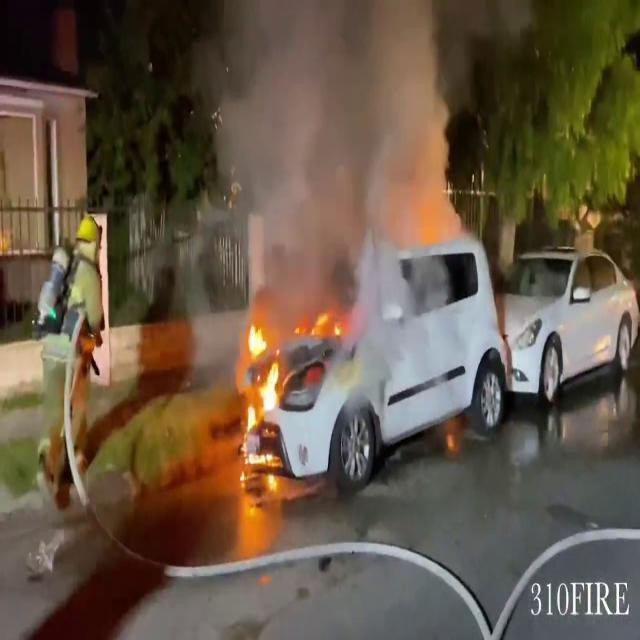Fire: (233, 314, 286, 470)
Smoke: (201, 0, 472, 281)
